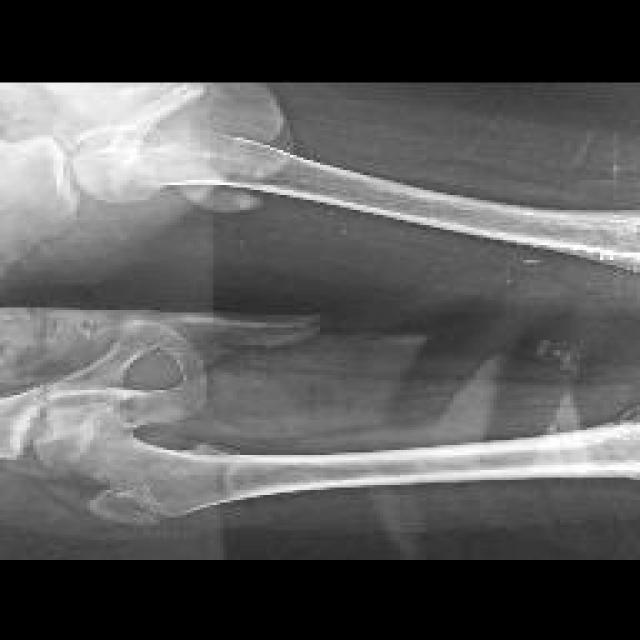bone-cancer: (562, 211, 638, 272), (584, 423, 638, 478)
